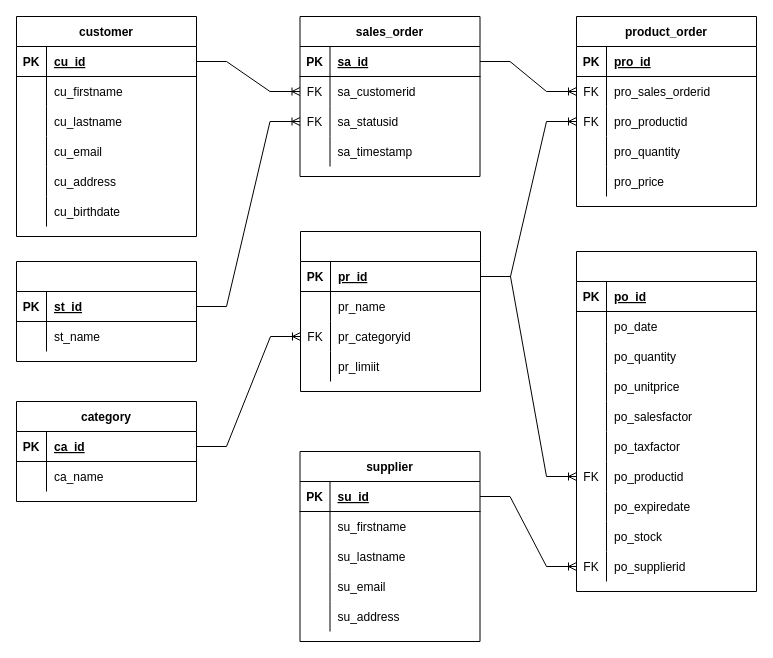
Image size: 773x658. Some labels were removed from this diagram. The shapes that lost their labels are listed below. From the top down, each one's box as (x1, y1, x2, y2) in pixels, then its label:
(16, 260, 196, 362): status
(300, 230, 480, 392): product
(576, 250, 756, 592): purchase_order
